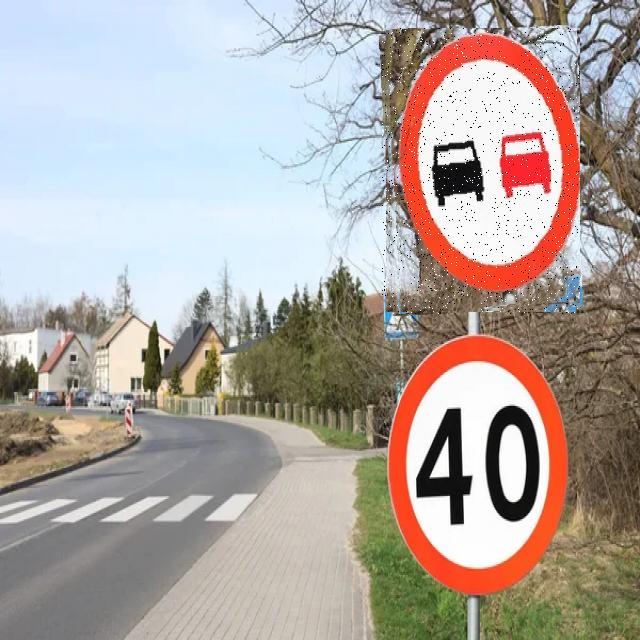no overtaking: (382, 28, 580, 314)
